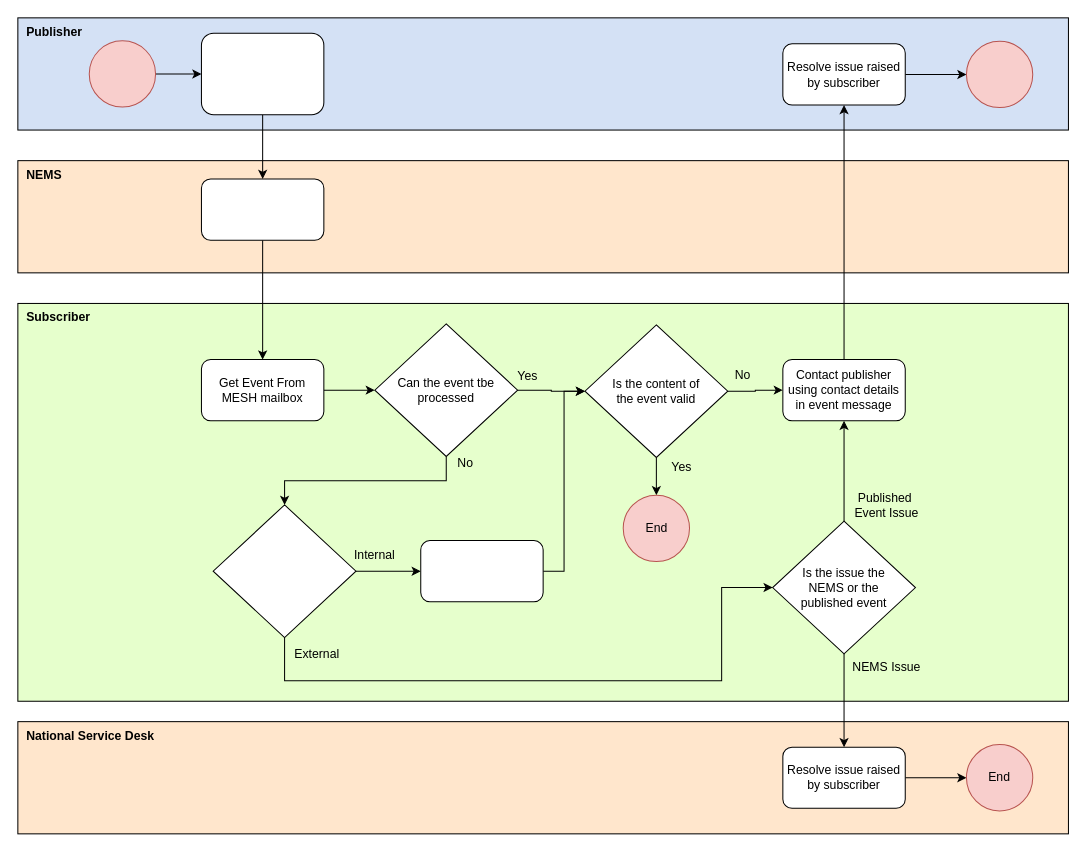
This 1086x852 diagram has some shape labels left out. Each missing label, with the centre of its shape:
"Back to Start" belongs at (x=999, y=74).
"Creates Event inc. Contact details for issues with event" belongs at (x=262, y=73).
"Fix Issue" belongs at (x=481, y=571).
"Is the Issue Internal or external" belongs at (x=284, y=571).
"Publish Event" belongs at (x=262, y=209).
"Start" belongs at (x=122, y=73).
